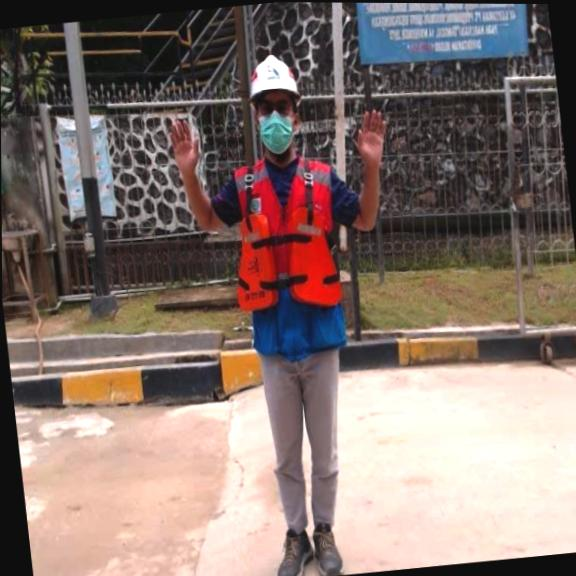safety_vest: (224, 196, 346, 319)
